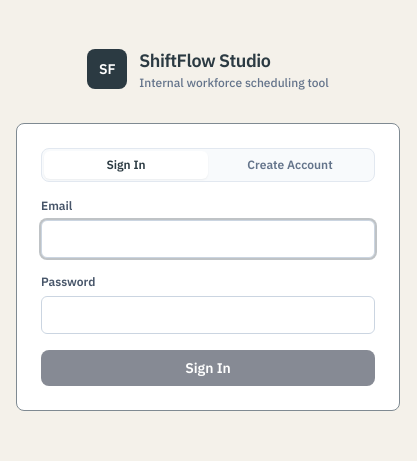
Test: LoginView › shows the server message when sign-in is throttled
Type "a@b.co" into the field labelled "Email" at (208, 239), box [41, 220, 375, 258]
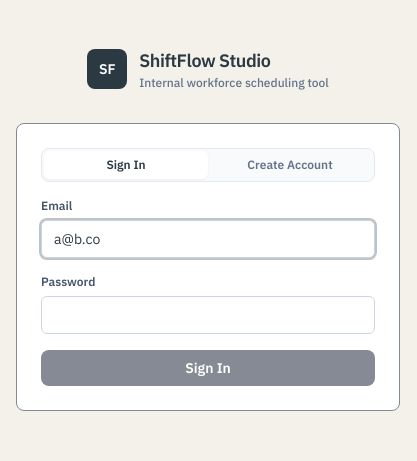
Type "x" into the password field labelled "Password" at (208, 315), box [41, 296, 375, 334]
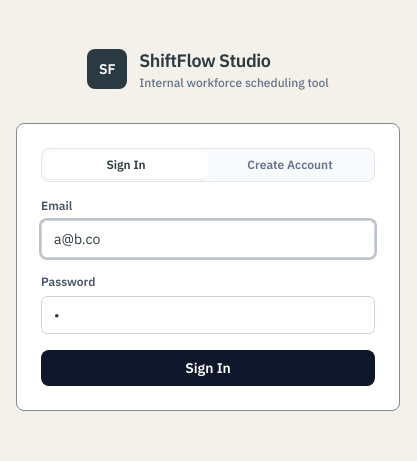
Click the 2nd button "Sign In" at (208, 368), box [41, 350, 375, 386]
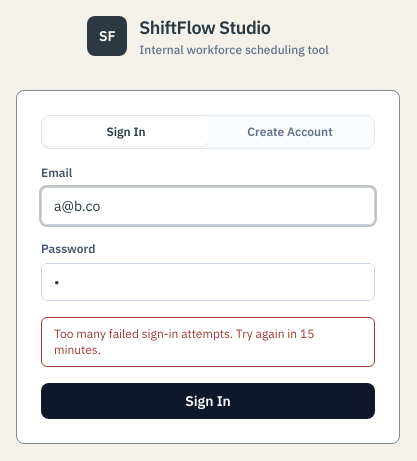
Now the message shows "Too many failed sign-in attempts", box [54, 326, 314, 357]
